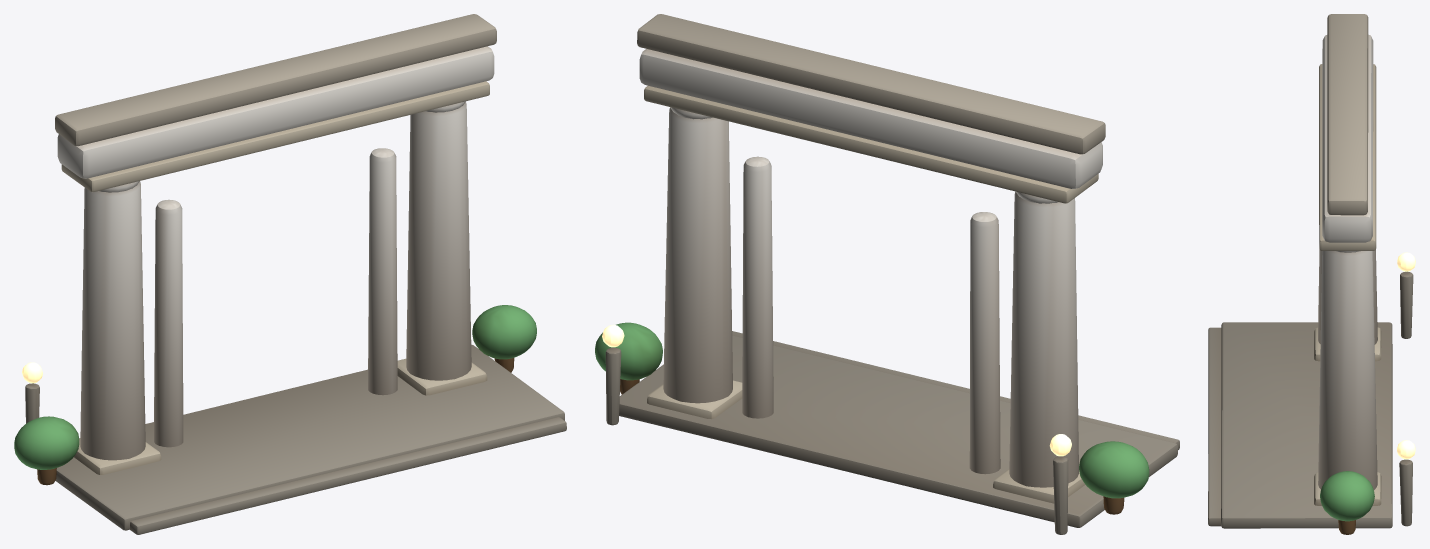
3 renders of one model, left to right at view 1: azimuth 30°, elevation 25°; view 2: azimuth 150°, elevation 25°; view 3: azimuth 270°, elevation 25°, orthographic. The views are drawn at different scales.
Visible parts, largest first — view 1: gate_4a2f91f6; view 2: gate_4a2f91f6; view 3: gate_4a2f91f6.
Part boxes in pixels (x1,y1,x2,y2): gate_4a2f91f6: [14, 14, 566, 534]; gate_4a2f91f6: [595, 14, 1179, 534]; gate_4a2f91f6: [1208, 14, 1415, 534].
Bounding box in the file's own units: 6.65 × 4.4 × 2.55.
